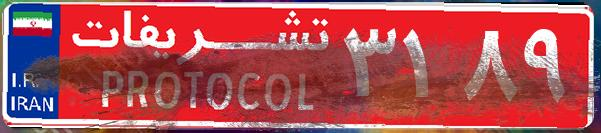1: (400, 20, 460, 115)
3: (340, 20, 400, 115)
8: (460, 20, 520, 115)
9: (520, 20, 580, 115)
تشریفات: (60, 8, 340, 125)
